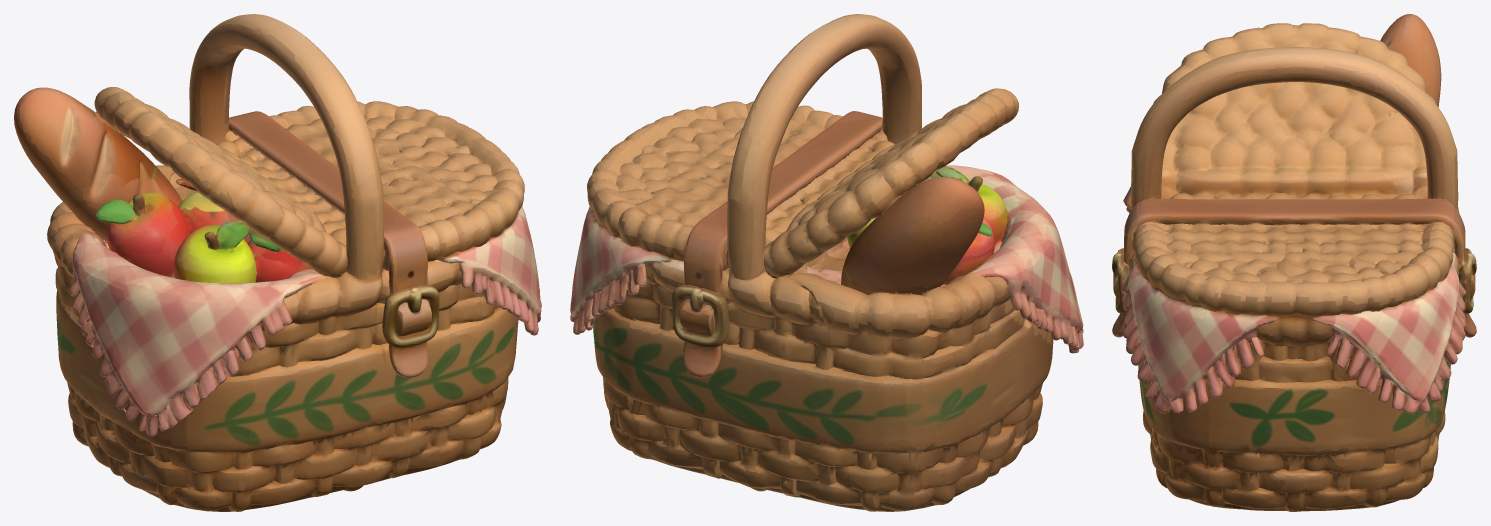
The model's file is prp_basket.glb.
3 views of the same model, side by side, from view 1: azimuth 30°, elevation 25°; view 2: azimuth 150°, elevation 25°; view 3: azimuth 270°, elevation 25° (orthographic). The views are drawn at different scales.
Parts seen in each view (by area): view 1: geometry_0; view 2: geometry_0; view 3: geometry_0.
Boxes of the visible parts, x1,y1,x2,y2 form: geometry_0: (14, 14, 541, 511); geometry_0: (570, 14, 1083, 511); geometry_0: (1112, 14, 1476, 511).
Bounding box in the file's own units: 0.45 × 0.429 × 0.3575.
Materials: 1 (1 with a texture image).
